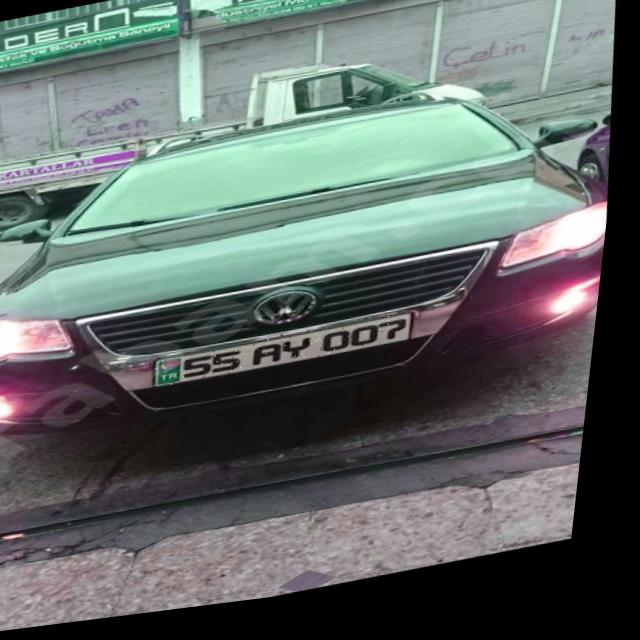license_plate: (160, 321, 423, 395)
